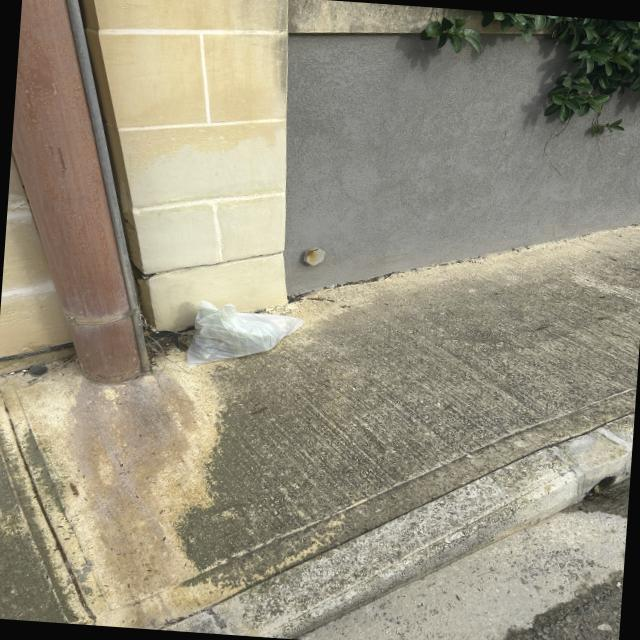white_bag: (180, 296, 310, 375)
